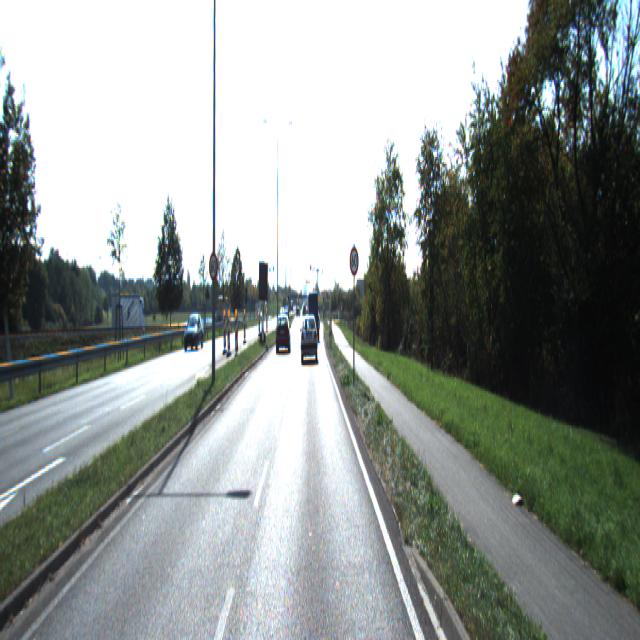Car: (301, 316, 318, 362), (184, 314, 204, 352), (275, 314, 291, 353), (308, 291, 319, 340)
